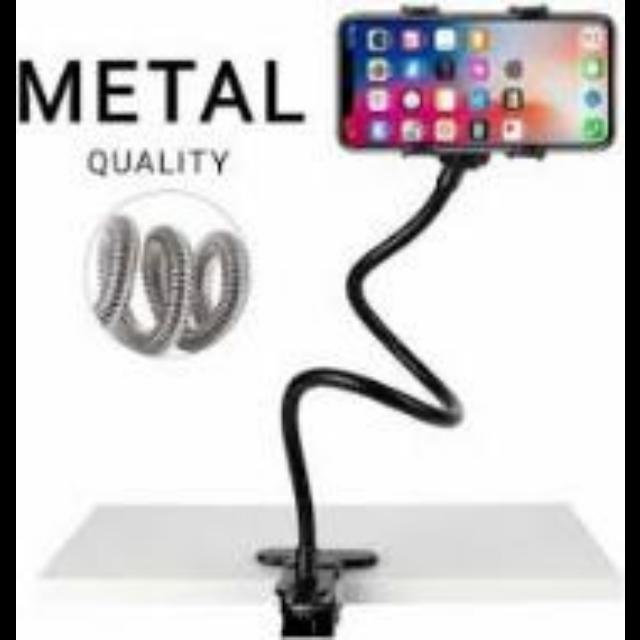Phone: (332, 7, 620, 155)
